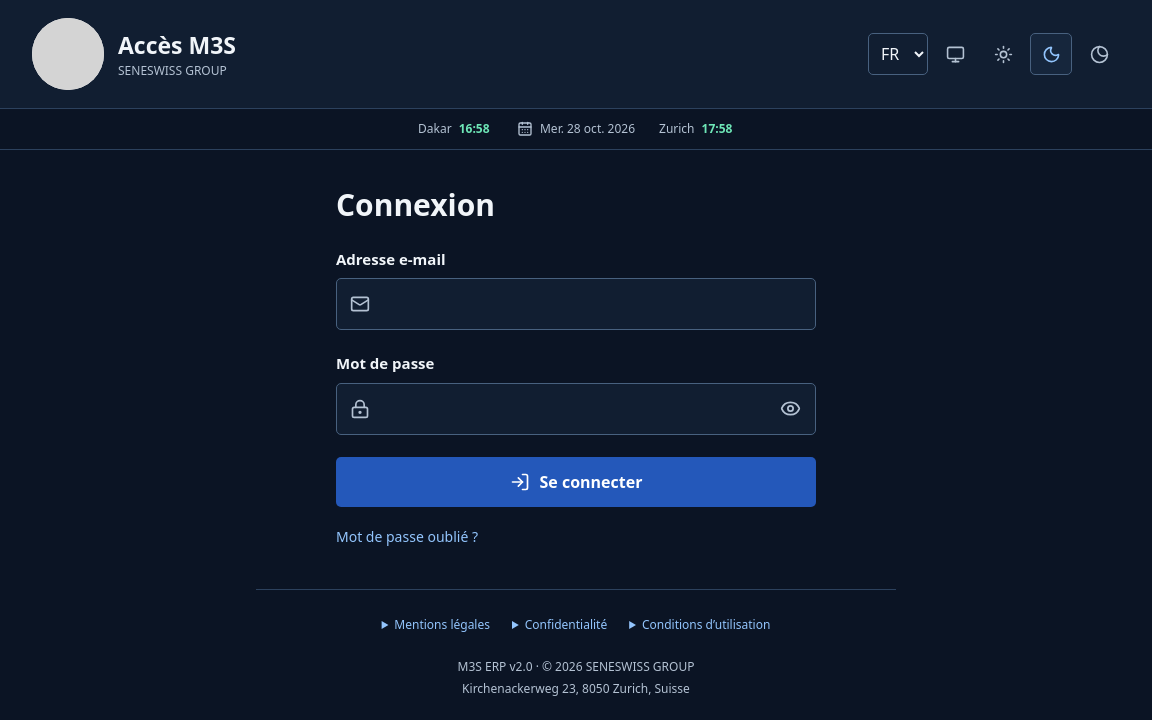
Test: validates email locally in FR without a browser-language bubble
Type "invalid-address" into the field labelled "Adresse e-mail". click: (576, 304)
box: [336, 278, 816, 330]
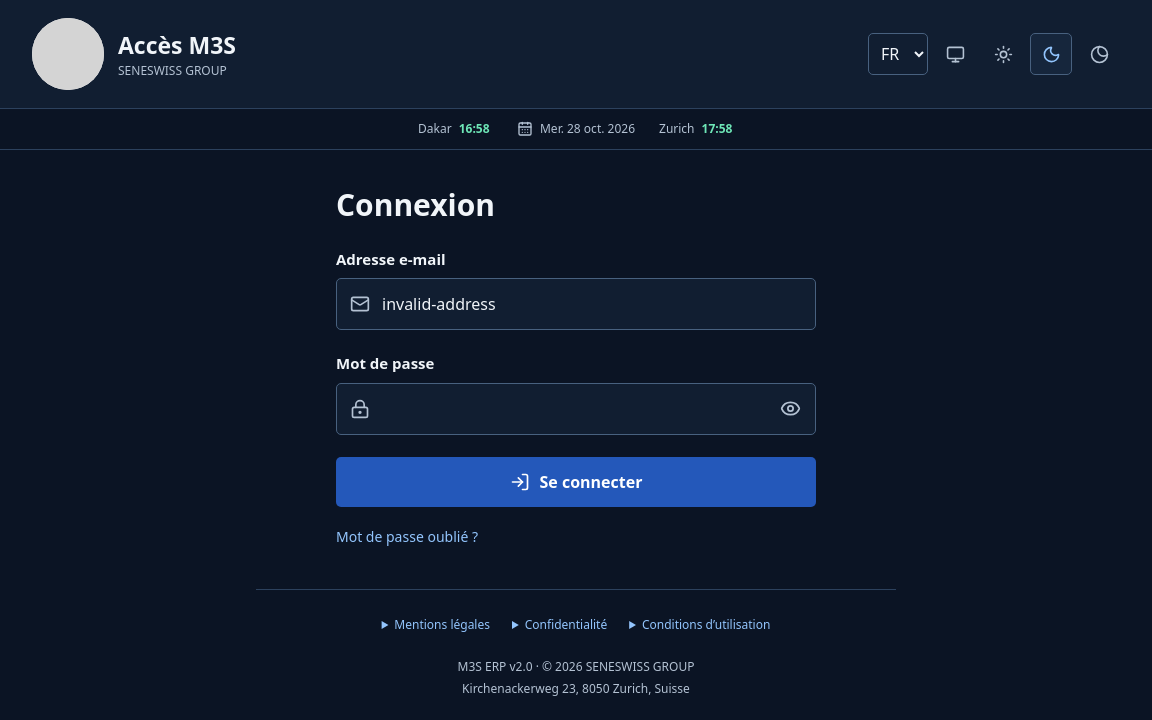
Click the button "Se connecter". click: (576, 482)
box: [336, 456, 816, 506]
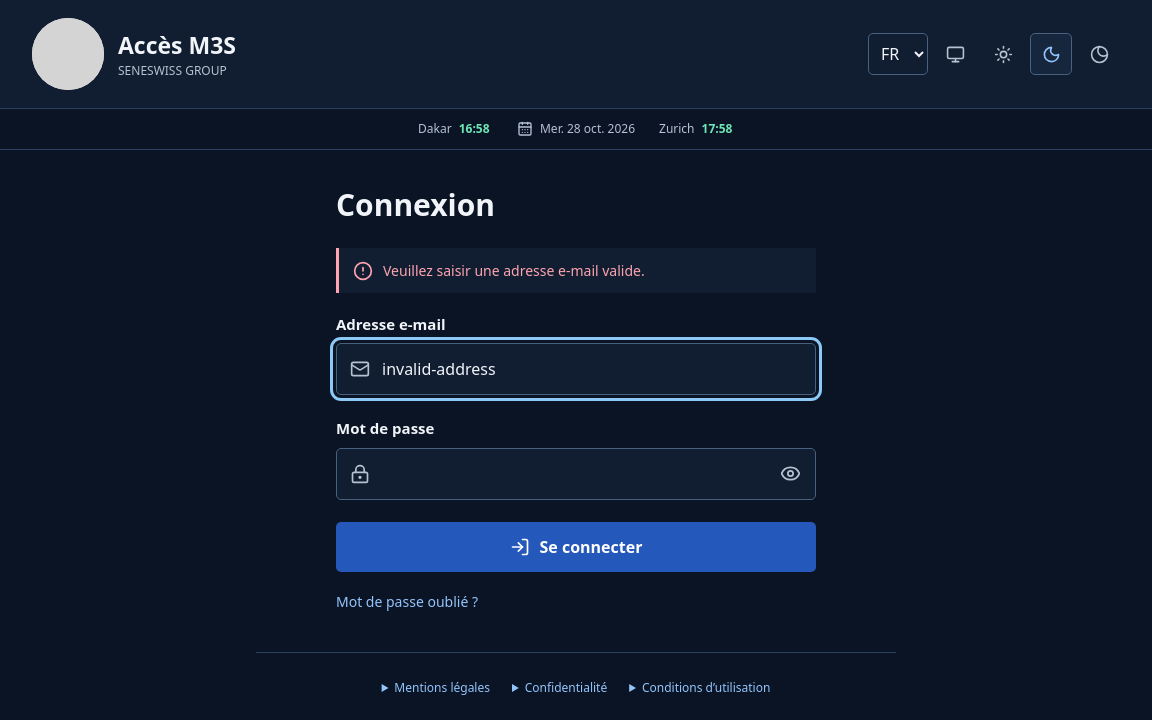
Now the message reads "Veuillez saisir une adresse e-mail valide.", box [383, 260, 645, 280]
